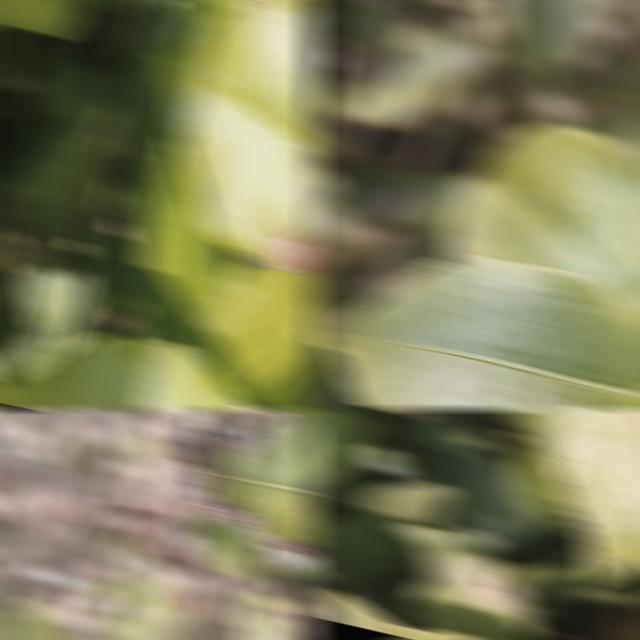Leaf: (321, 253, 640, 410), (156, 0, 320, 268), (444, 124, 640, 321), (395, 408, 576, 564), (134, 73, 230, 354), (0, 106, 123, 280), (176, 408, 320, 553), (191, 263, 320, 410), (0, 335, 252, 410), (396, 523, 538, 640), (308, 480, 455, 589), (350, 35, 495, 128), (116, 0, 194, 163), (504, 0, 611, 100), (102, 527, 183, 640), (78, 232, 141, 336), (507, 438, 571, 534), (306, 408, 378, 487), (197, 508, 262, 578), (164, 0, 243, 53), (234, 590, 298, 640), (1, 598, 76, 640)
